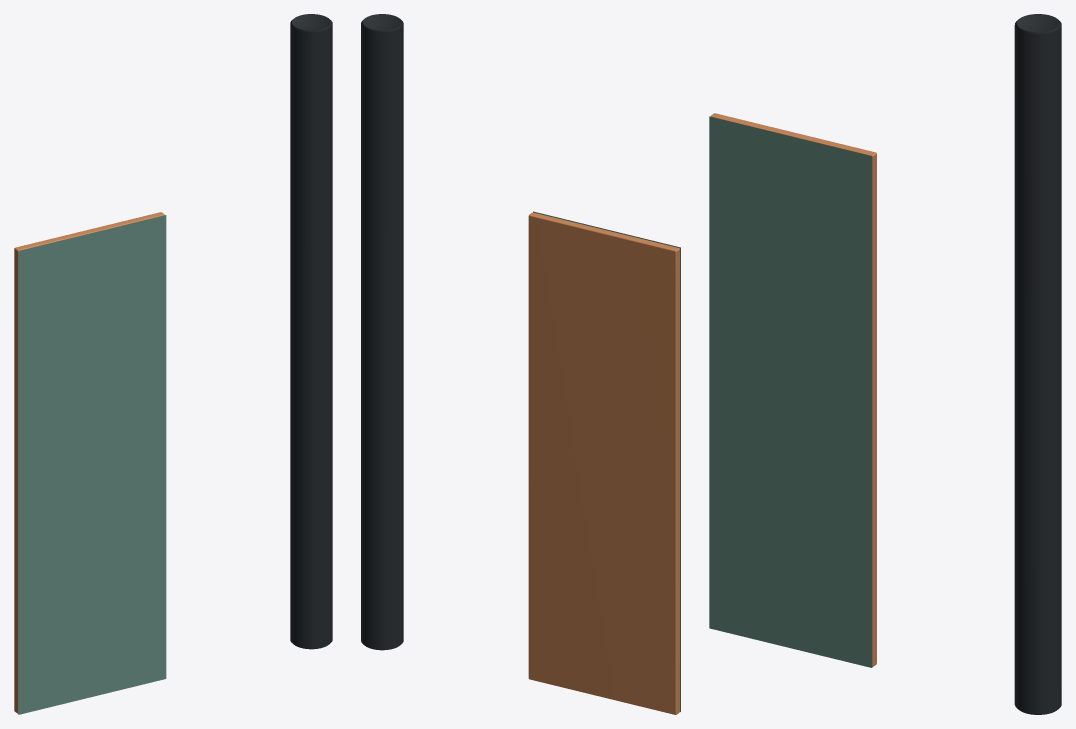
File: VLAB_electrodes.fbx
3 views of the same model, side by side, from view 1: azimuth 30°, elevation 25°; view 2: azimuth 150°, elevation 25°; view 3: azimuth 330°, elevation 25° (orthographic). The views are drawn at different scales.
Parts seen in each view (by area): view 1: VLAB_electrodes_CoatingGuide_VIS, VLAB_electrodes_Rod_VIS, VLAB_electrodes_Plate_VIS; view 2: VLAB_electrodes_Plate_VIS, VLAB_electrodes_Rod_VIS, VLAB_electrodes_CoatingGuide_VIS; view 3: VLAB_electrodes_CoatingGuide_VIS, VLAB_electrodes_Rod_VIS, VLAB_electrodes_Plate_VIS.
Part boxes in pixels (left/top/right/bottom): VLAB_electrodes_CoatingGuide_VIS: left=18, top=215, right=166, bottom=714; VLAB_electrodes_Rod_VIS: left=290, top=14, right=332, bottom=649; VLAB_electrodes_Plate_VIS: left=14, top=212, right=164, bottom=713; VLAB_electrodes_Plate_VIS: left=528, top=212, right=679, bottom=714; VLAB_electrodes_Rod_VIS: left=361, top=14, right=403, bottom=650; VLAB_electrodes_CoatingGuide_VIS: left=533, top=211, right=680, bottom=711; VLAB_electrodes_CoatingGuide_VIS: left=709, top=116, right=872, bottom=667; VLAB_electrodes_Rod_VIS: left=1014, top=14, right=1061, bottom=714; VLAB_electrodes_Plate_VIS: left=710, top=113, right=876, bottom=666.
Bounding box in the file's own units: 0.0425 × 0.08 × 0.005.
